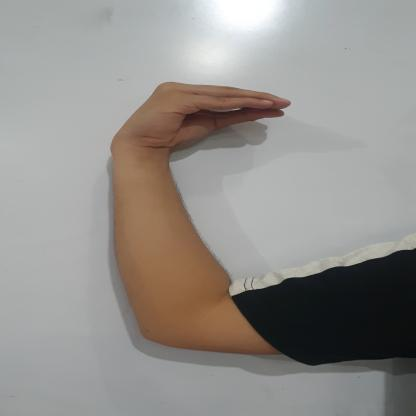Malam: (85, 76, 300, 176)
